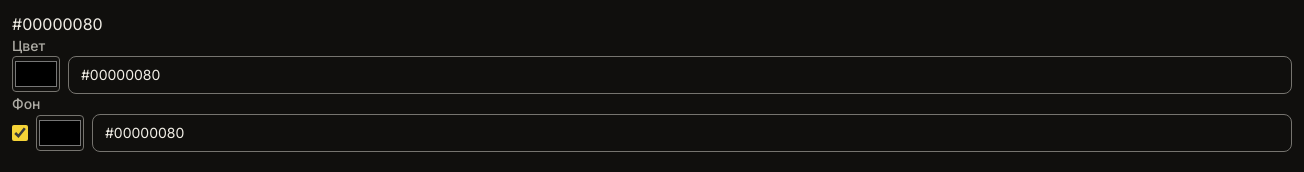
Test: поле цвета › палитра не стирает прозрачность: она её не знает
In the colour field with id "color": [36, 74] box [12,56,60,92], type "#123456"
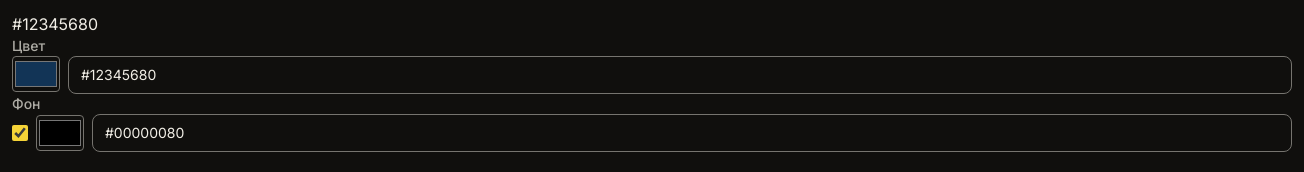
Expected: the text with test id "value" reads "#12345680", [12,14,98,34]
